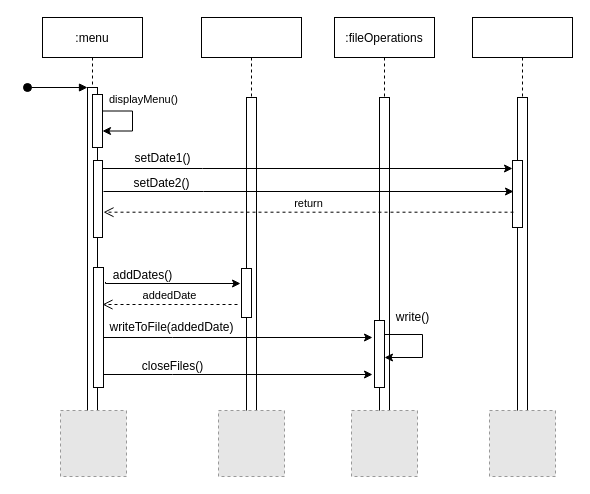
Image size: 590x494. Some labels were removed from this diagram. Grey dashed boxes stand in for pictures. The shapes that lost their labels are listed below. From the top down, each one's centre as x and y in pixels, then its label:
At point 251,228: ":dateOperations".
At point 522,228: ":datePojo".
